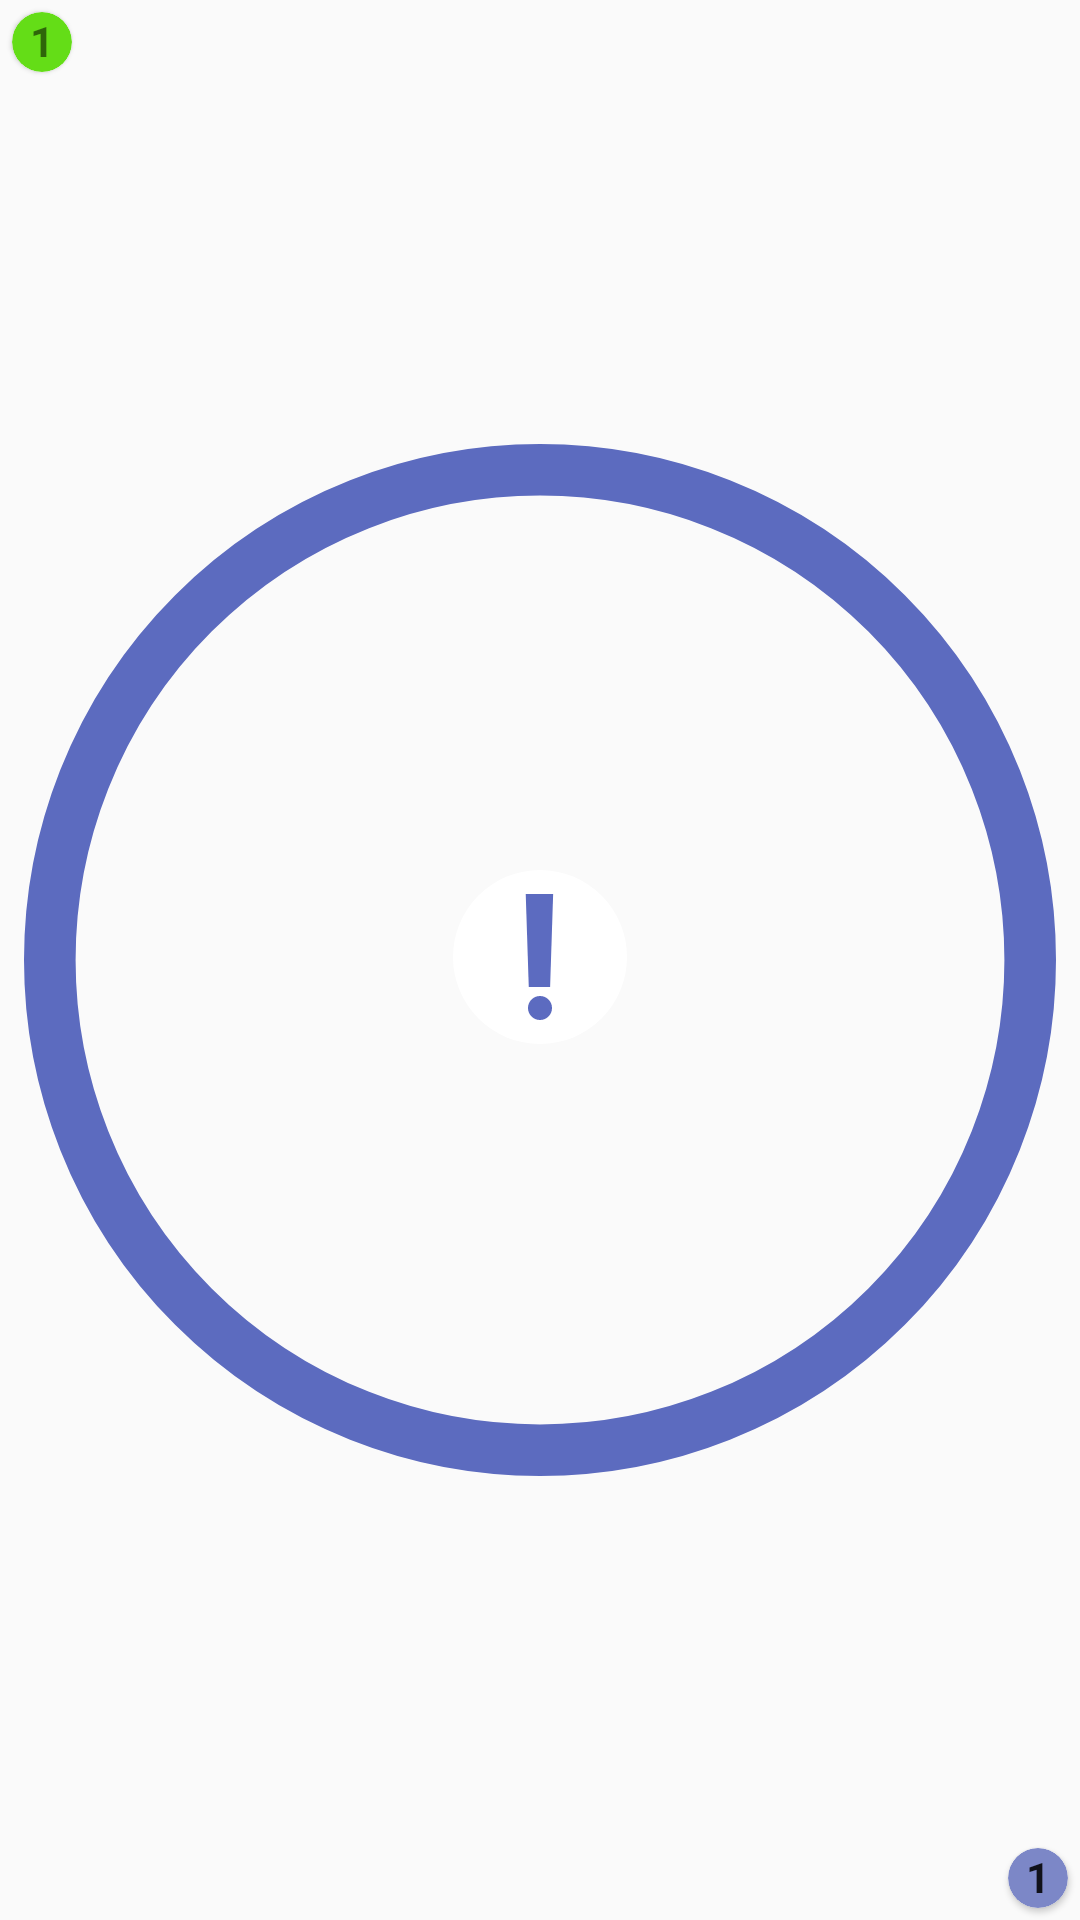

Screen size 1080px×1920px. Icon name, then its center in pixels as (x,y):
hint number: (1038,1878)
hint track: (539,957)
hints: (42,42)
